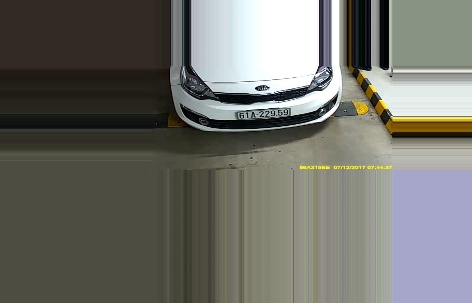plate: (237, 107, 290, 122)
